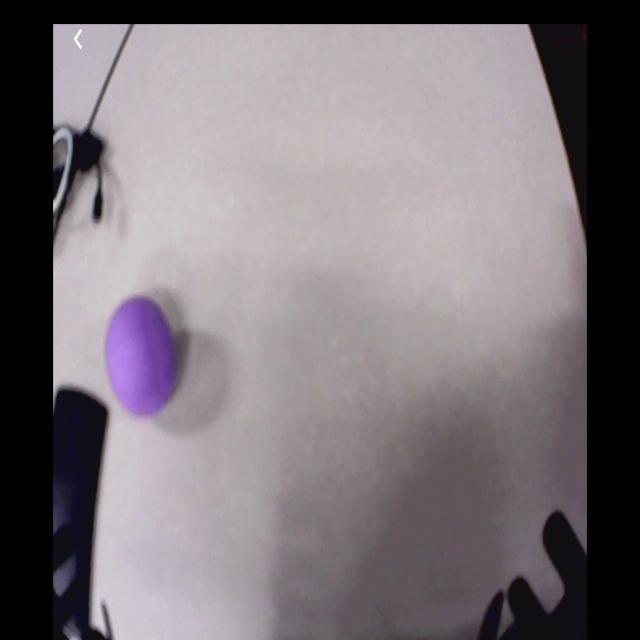ball: (106, 298, 176, 414)
